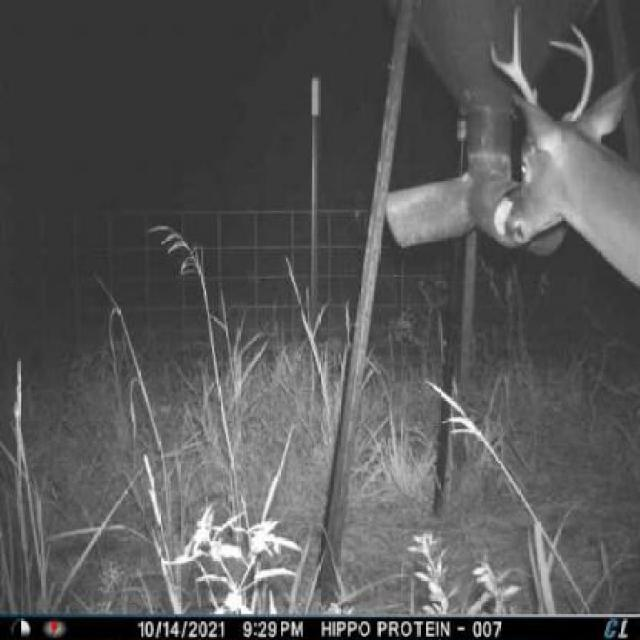Deer: (480, 0, 638, 309)
